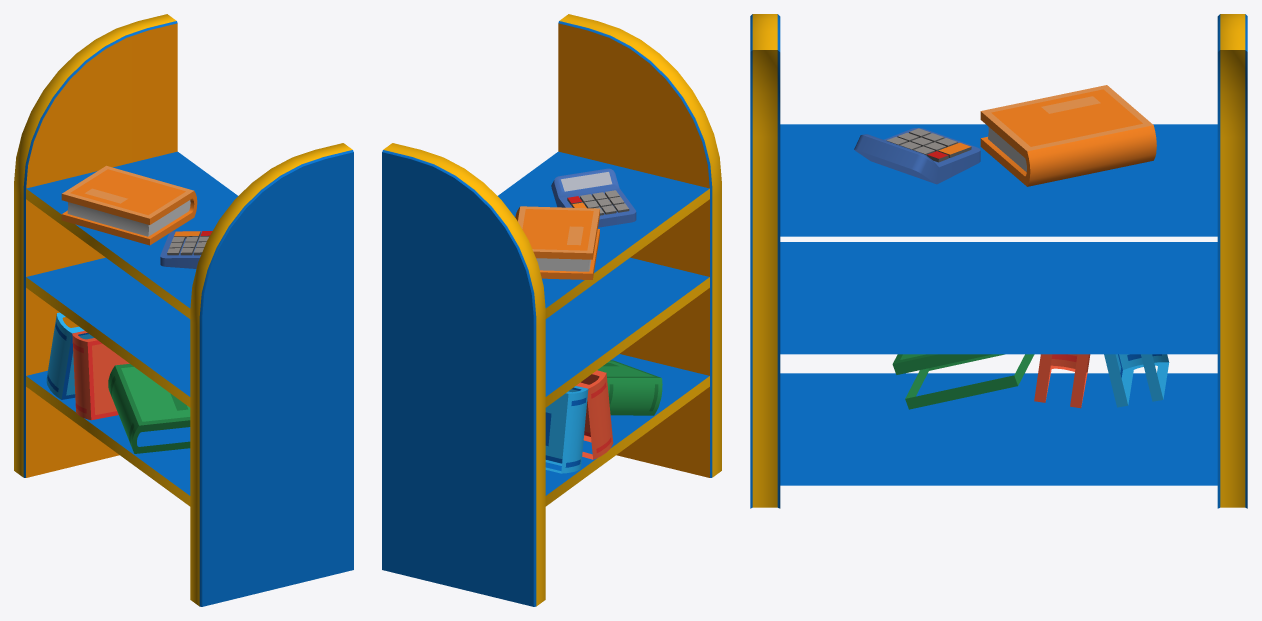
Rendered from Book Shelf LEVEL-3-3.fbx.
3 views of the same model, side by side, from view 1: azimuth 30°, elevation 25°; view 2: azimuth 150°, elevation 25°; view 3: azimuth 270°, elevation 25° (orthographic). The views are drawn at different scales.
Visible parts, largest first — view 1: Book Shelf LEVEL-3-3; view 2: Book Shelf LEVEL-3-3; view 3: Book Shelf LEVEL-3-3.
Boxes of the visible parts, x1=… form: Book Shelf LEVEL-3-3: x1=14, y1=14, x2=353, y2=606; Book Shelf LEVEL-3-3: x1=382, y1=14, x2=721, y2=606; Book Shelf LEVEL-3-3: x1=750, y1=14, x2=1247, y2=508.
Size of the model in its own units: 4.78 by 12.16 by 9.84.
